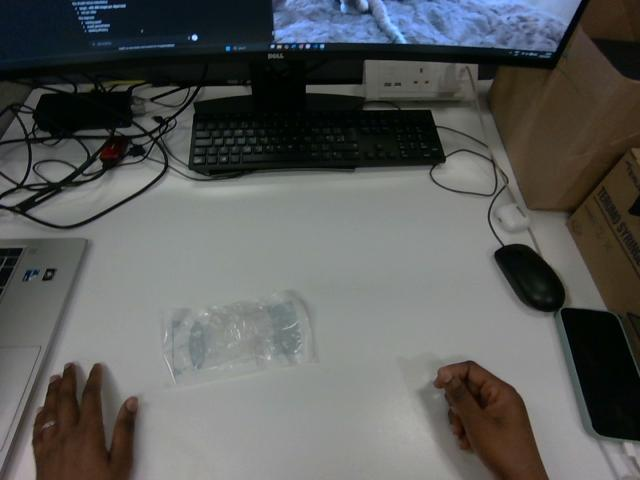gallipot: (162, 292, 313, 384)
